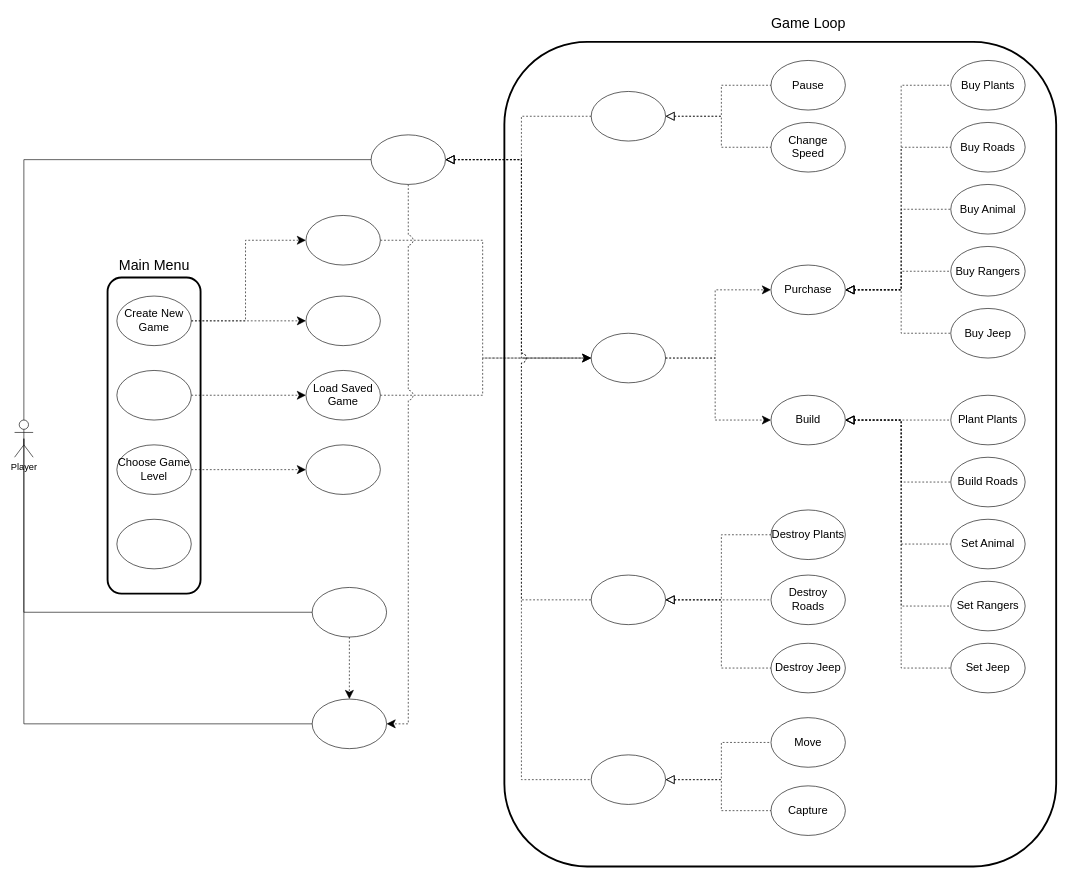
Image size: 1068x878. Some labels were removed from this diagram. Here are the shapes that lost their labels. From the top down, the centre of each, then its label:
At pixel 628 116: "Manage Time".
At pixel 407 159: "Take Game Actions".
At pixel 342 240: "Generate Game Map".
At pixel 342 320: "Set Game Frame".
At pixel 628 358: "Construction".
At pixel 153 395: "Choose Saved Games".
At pixel 342 469: "Set Game Level".
At pixel 153 544: "Exit Game".
At pixel 349 612: "Exit To Main".
At pixel 628 599: "Destructions".
At pixel 349 723: "Save Game".
At pixel 628 779: "Control Rangers".
